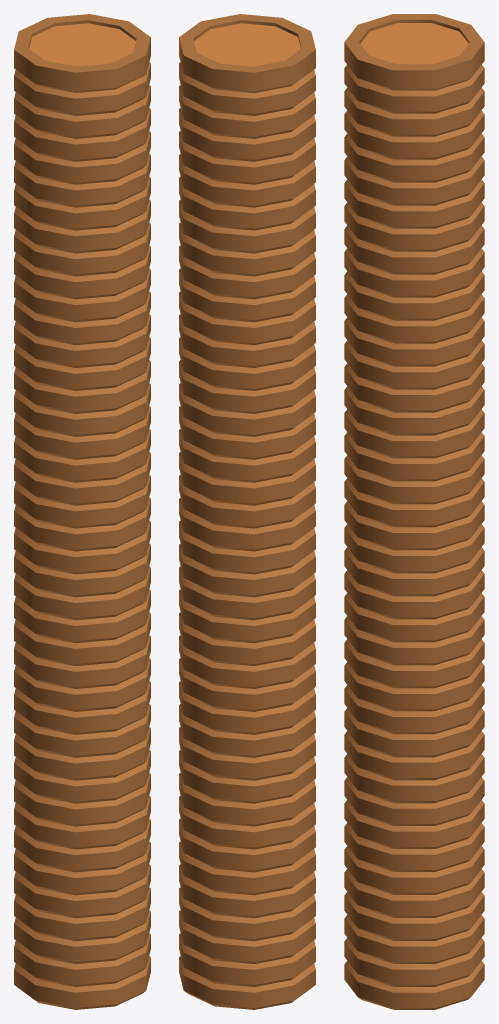
File: Coin_Tower_14.fbx
3 renders of one model, left to right at view 1: azimuth 30°, elevation 25°; view 2: azimuth 150°, elevation 25°; view 3: azimuth 270°, elevation 25°, orthographic.
Parts seen in each view (by area): view 1: Coin_Tower_14; view 2: Coin_Tower_14; view 3: Coin_Tower_14.
Part boxes in pixels (x1,y1,x2,y2): Coin_Tower_14: (14,14,150,1009); Coin_Tower_14: (179,14,315,1009); Coin_Tower_14: (344,14,484,1009).
Size of the model in its own units: 0.0413 by 0.3221 by 0.0435.
